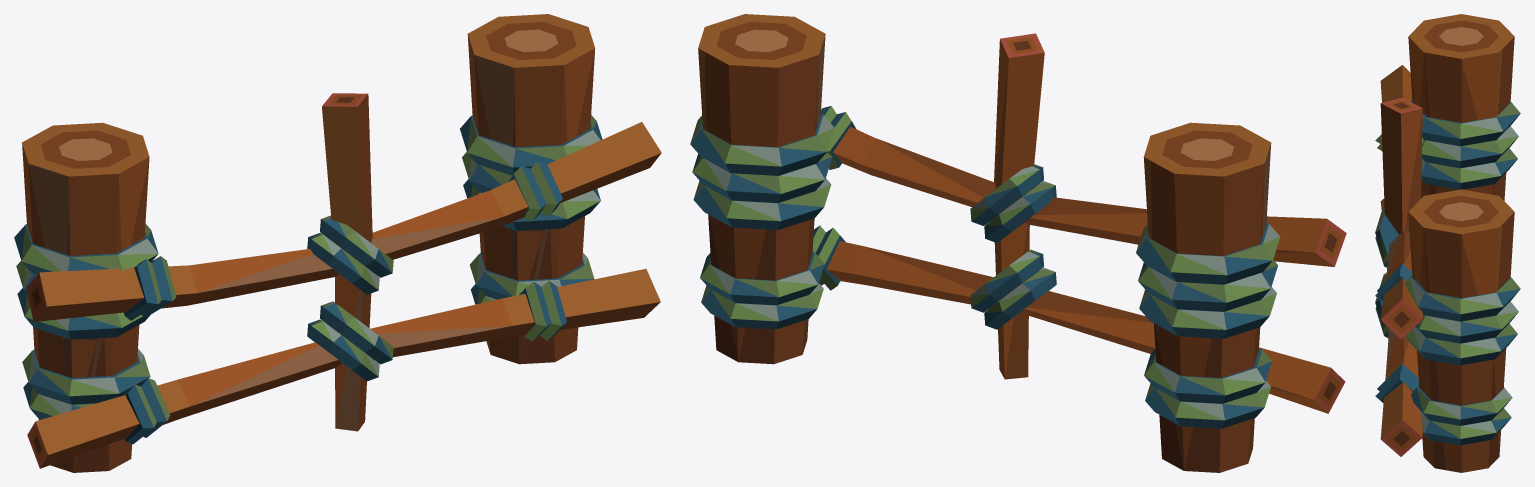
Rendered from itch_fishing_village_fence.glb.
3 renders of one model, left to right at view 1: azimuth 30°, elevation 25°; view 2: azimuth 150°, elevation 25°; view 3: azimuth 270°, elevation 25°, orthographic. The views are drawn at different scales.
Visible parts, largest first — view 1: fence.001; view 2: fence.001; view 3: fence.001.
Part boxes in pixels (x1=…): fence.001: x1=14, y1=14, x2=661, y2=472; fence.001: x1=690, y1=14, x2=1346, y2=472; fence.001: x1=1375, y1=14, x2=1520, y2=472.
Size of the model in its own units: 1.18 by 0.603 by 0.2985.
